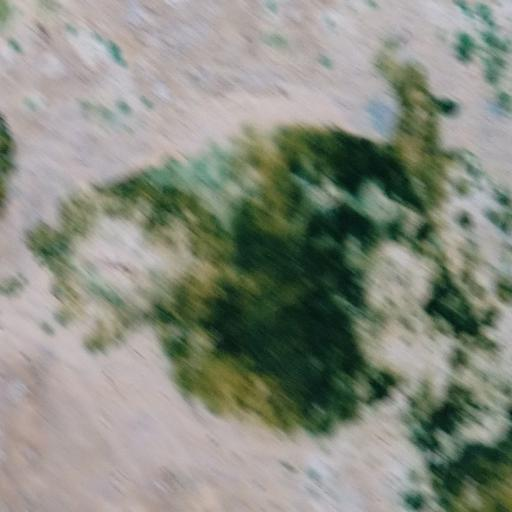algae: (50, 52, 512, 503)
